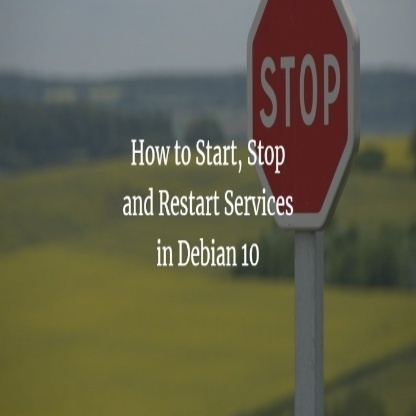stop: (248, 1, 352, 225)
